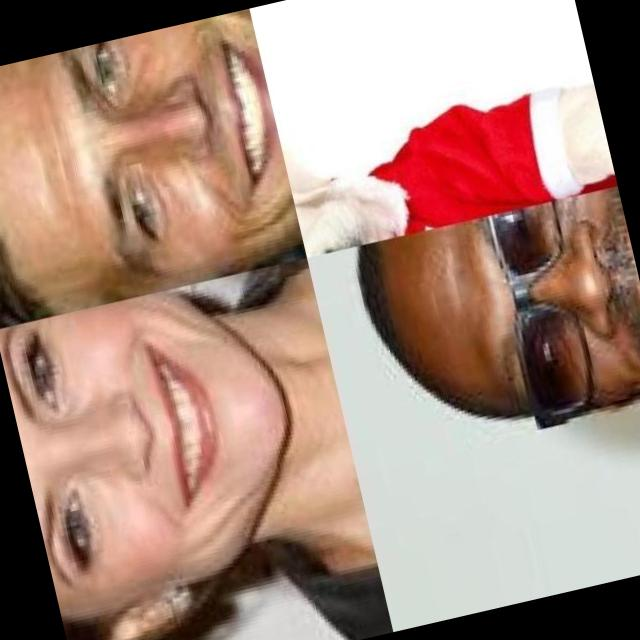bareface: (0, 275, 322, 640), (0, 8, 304, 328)
